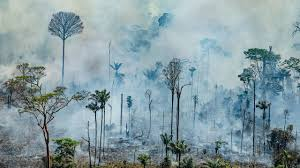smoke: (82, 1, 220, 98), (3, 7, 107, 87), (88, 104, 237, 144)
